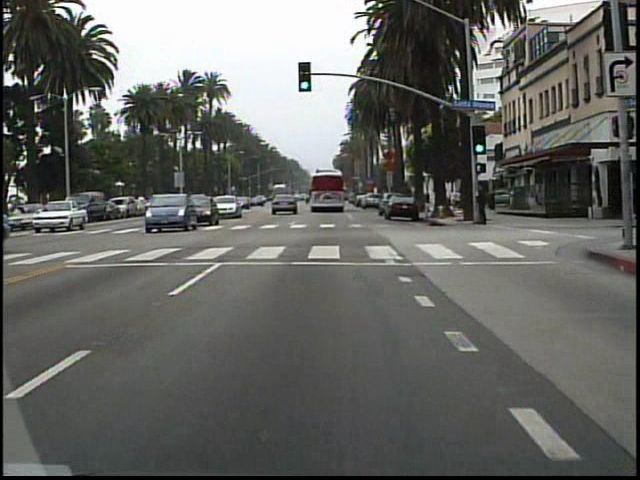person: (474, 179, 491, 229)
